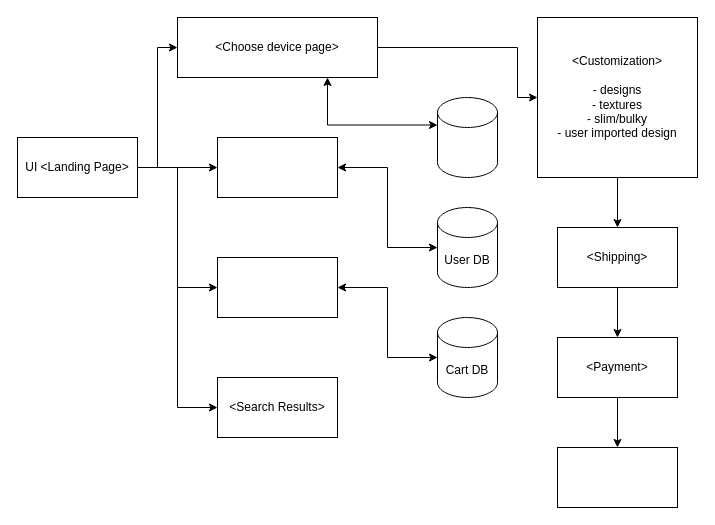
This 715x525 diagram has some shape labels left out. Each missing label, with the centre of its shape:
"<Cart>" belongs at (277,287).
"<Confirmation>" belongs at (617,477).
"<Login>" belongs at (277,167).
"Product DB" belongs at (467,137).
